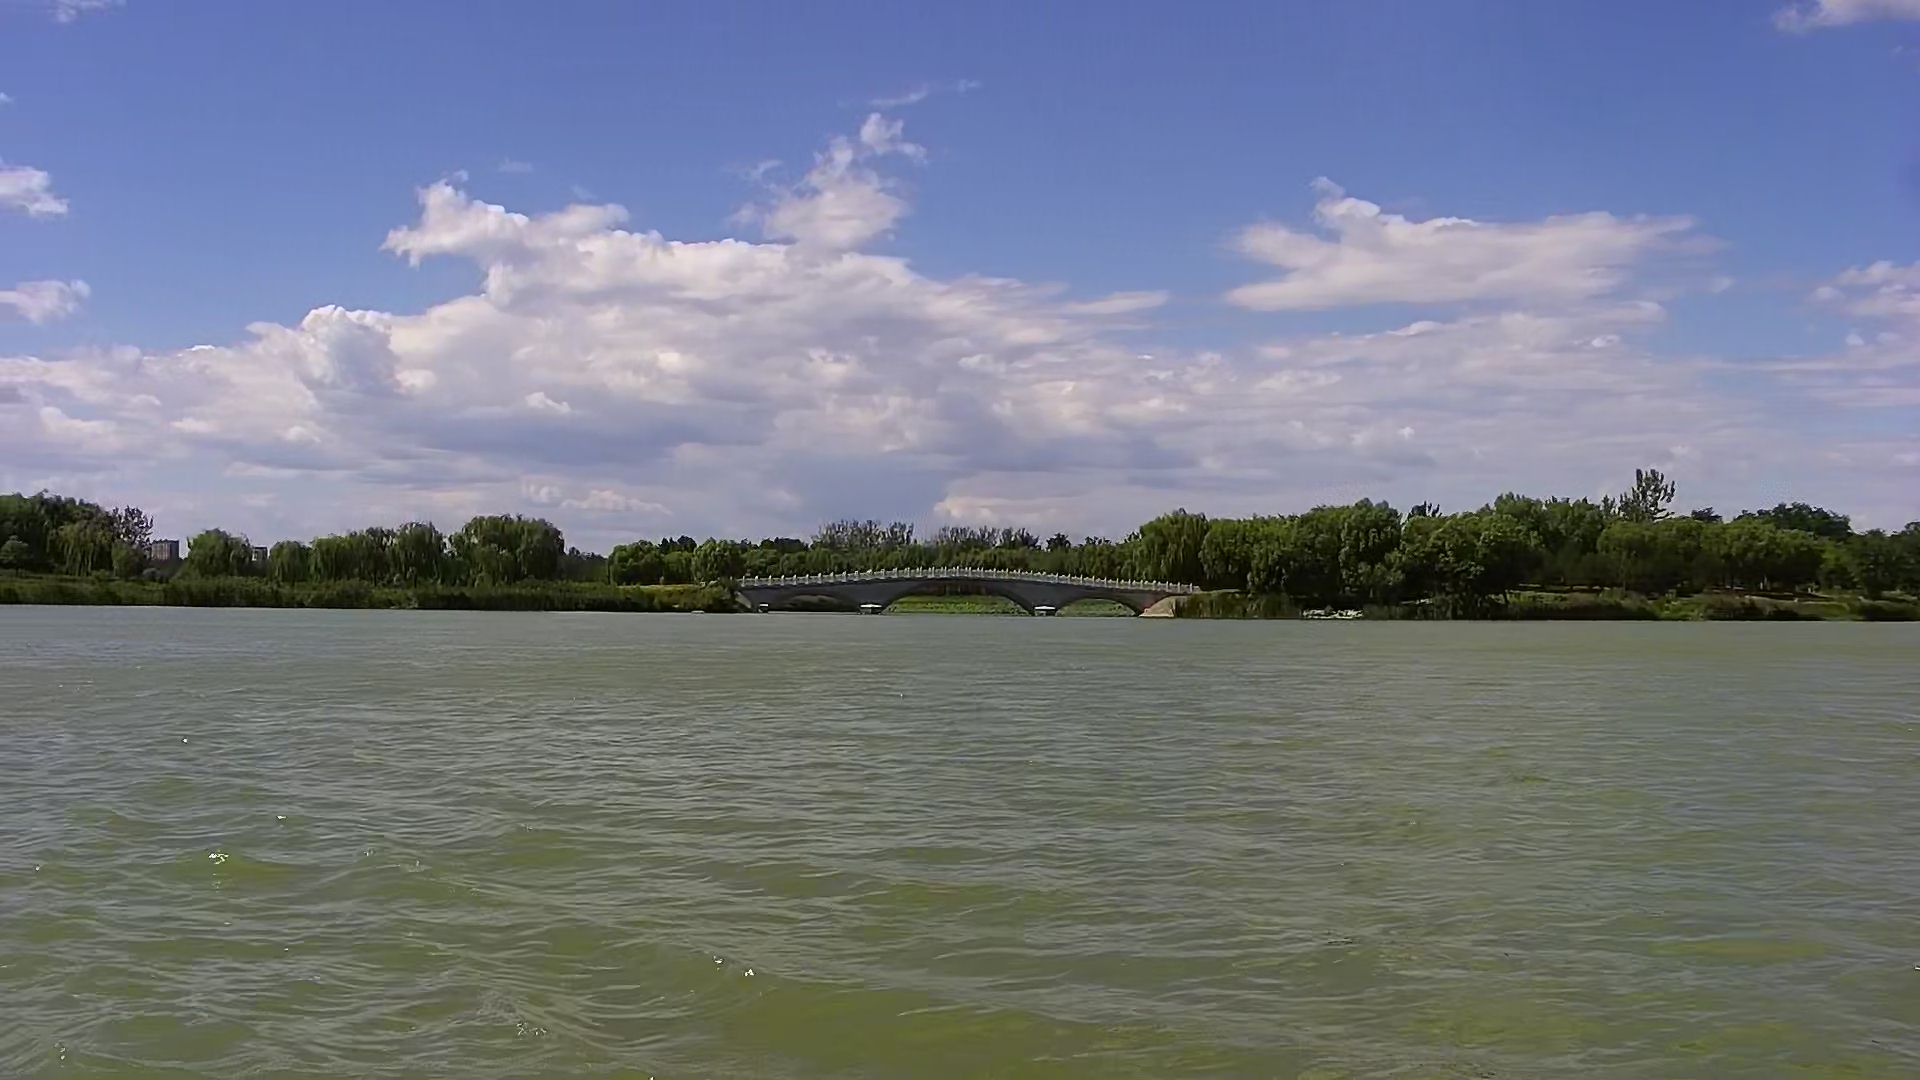bridge: (727, 554, 1216, 626)
